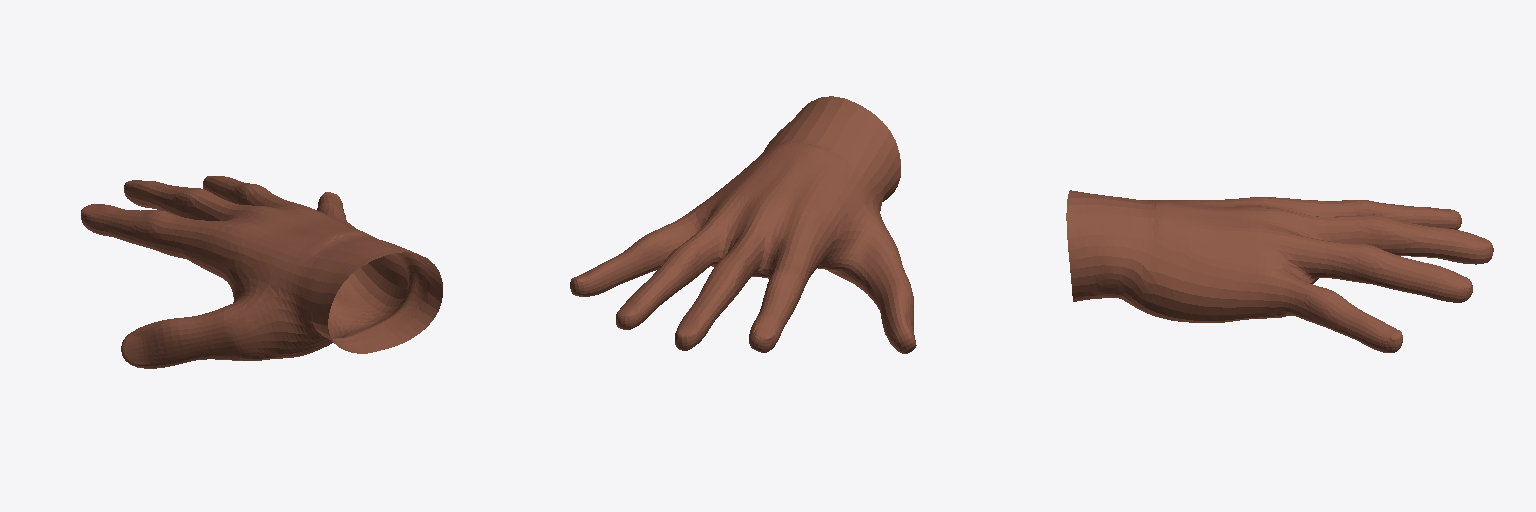
The model's file is hand.obj.
The picture shows the model from 3 angles: view 1: azimuth 30°, elevation 25°; view 2: azimuth 150°, elevation 25°; view 3: azimuth 270°, elevation 25°; orthographic projection.
Visible parts, largest first — view 1: Mesh; view 2: Mesh; view 3: Mesh.
Part boxes in pixels (left/top/right/bottom): Mesh: left=81, top=176, right=442, bottom=368; Mesh: left=570, top=96, right=916, bottom=353; Mesh: left=1066, top=190, right=1493, bottom=352.
Bounding box in the file's own units: 0.1506 × 0.0747 × 0.1988.